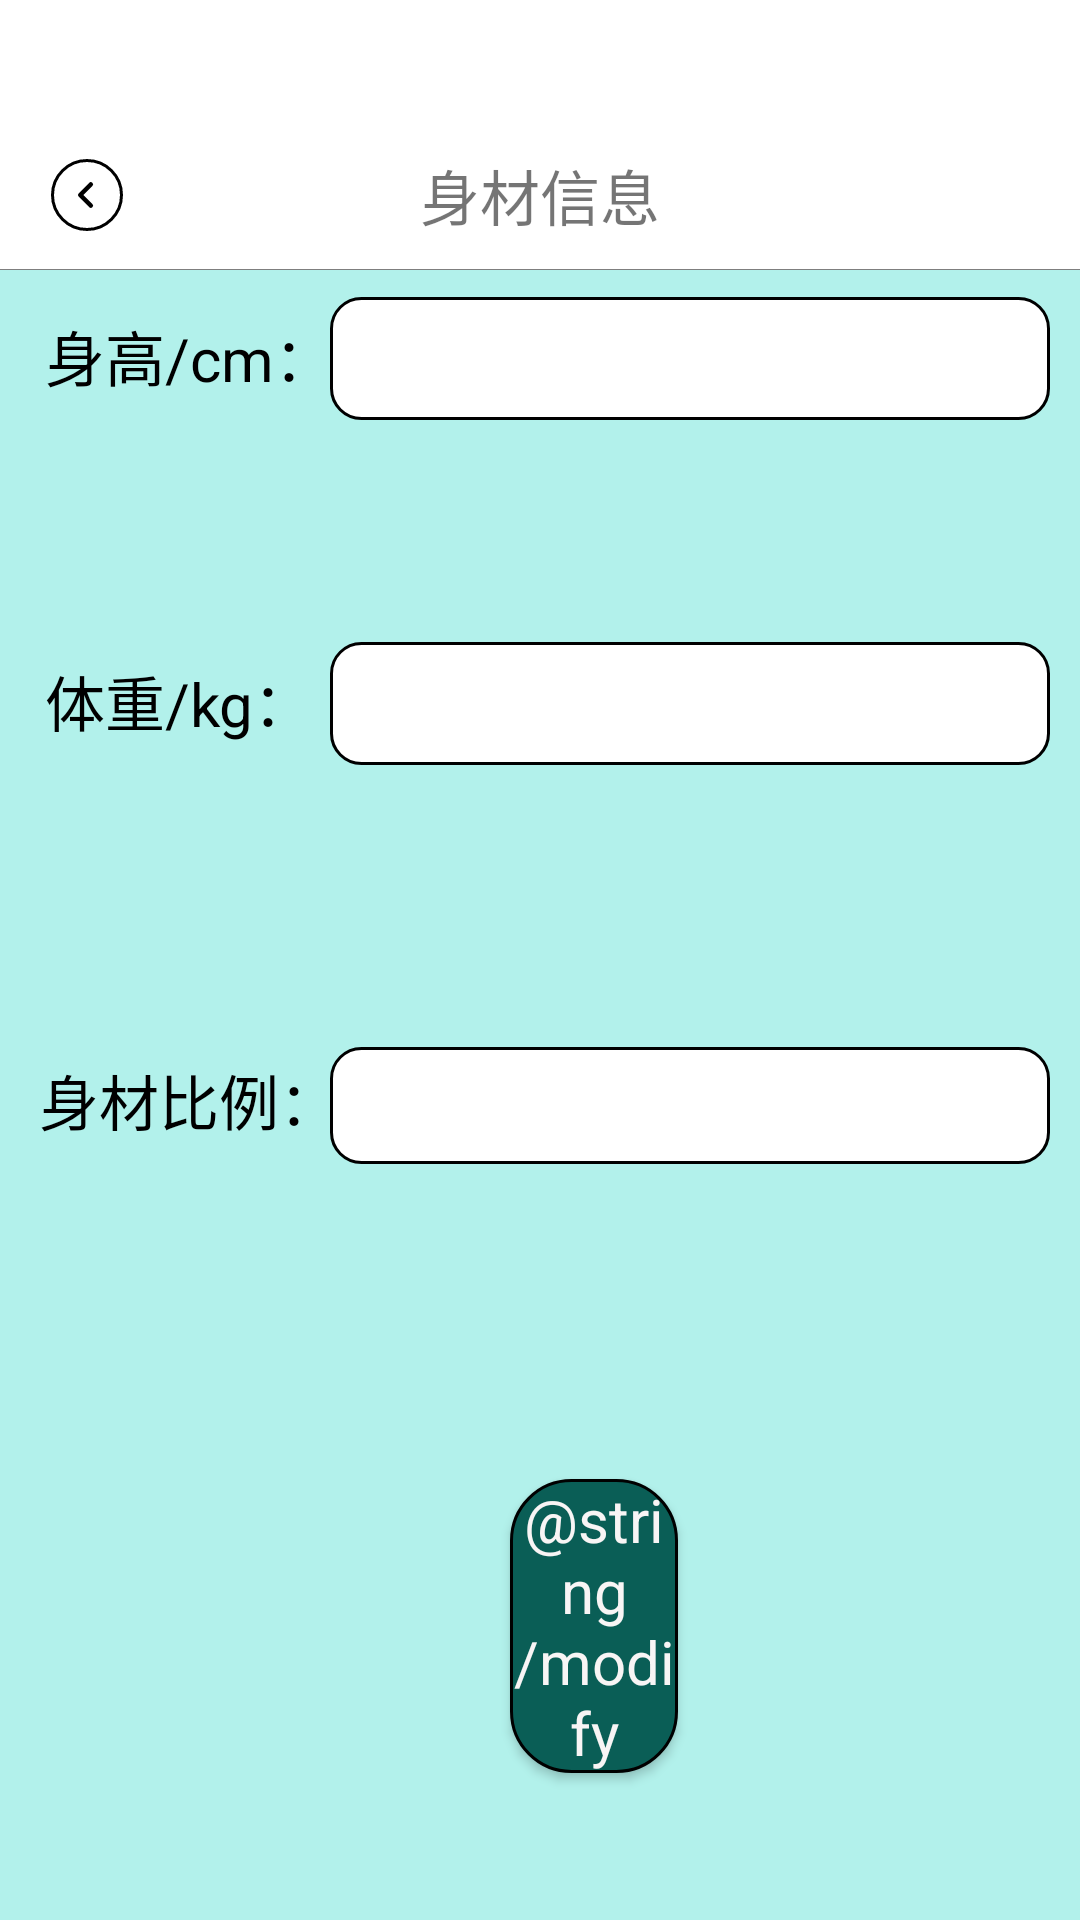

Point at icon controls on the screen. Image size 1080 x 1920, points as (x,y).
arrow circle left: (87,195)
